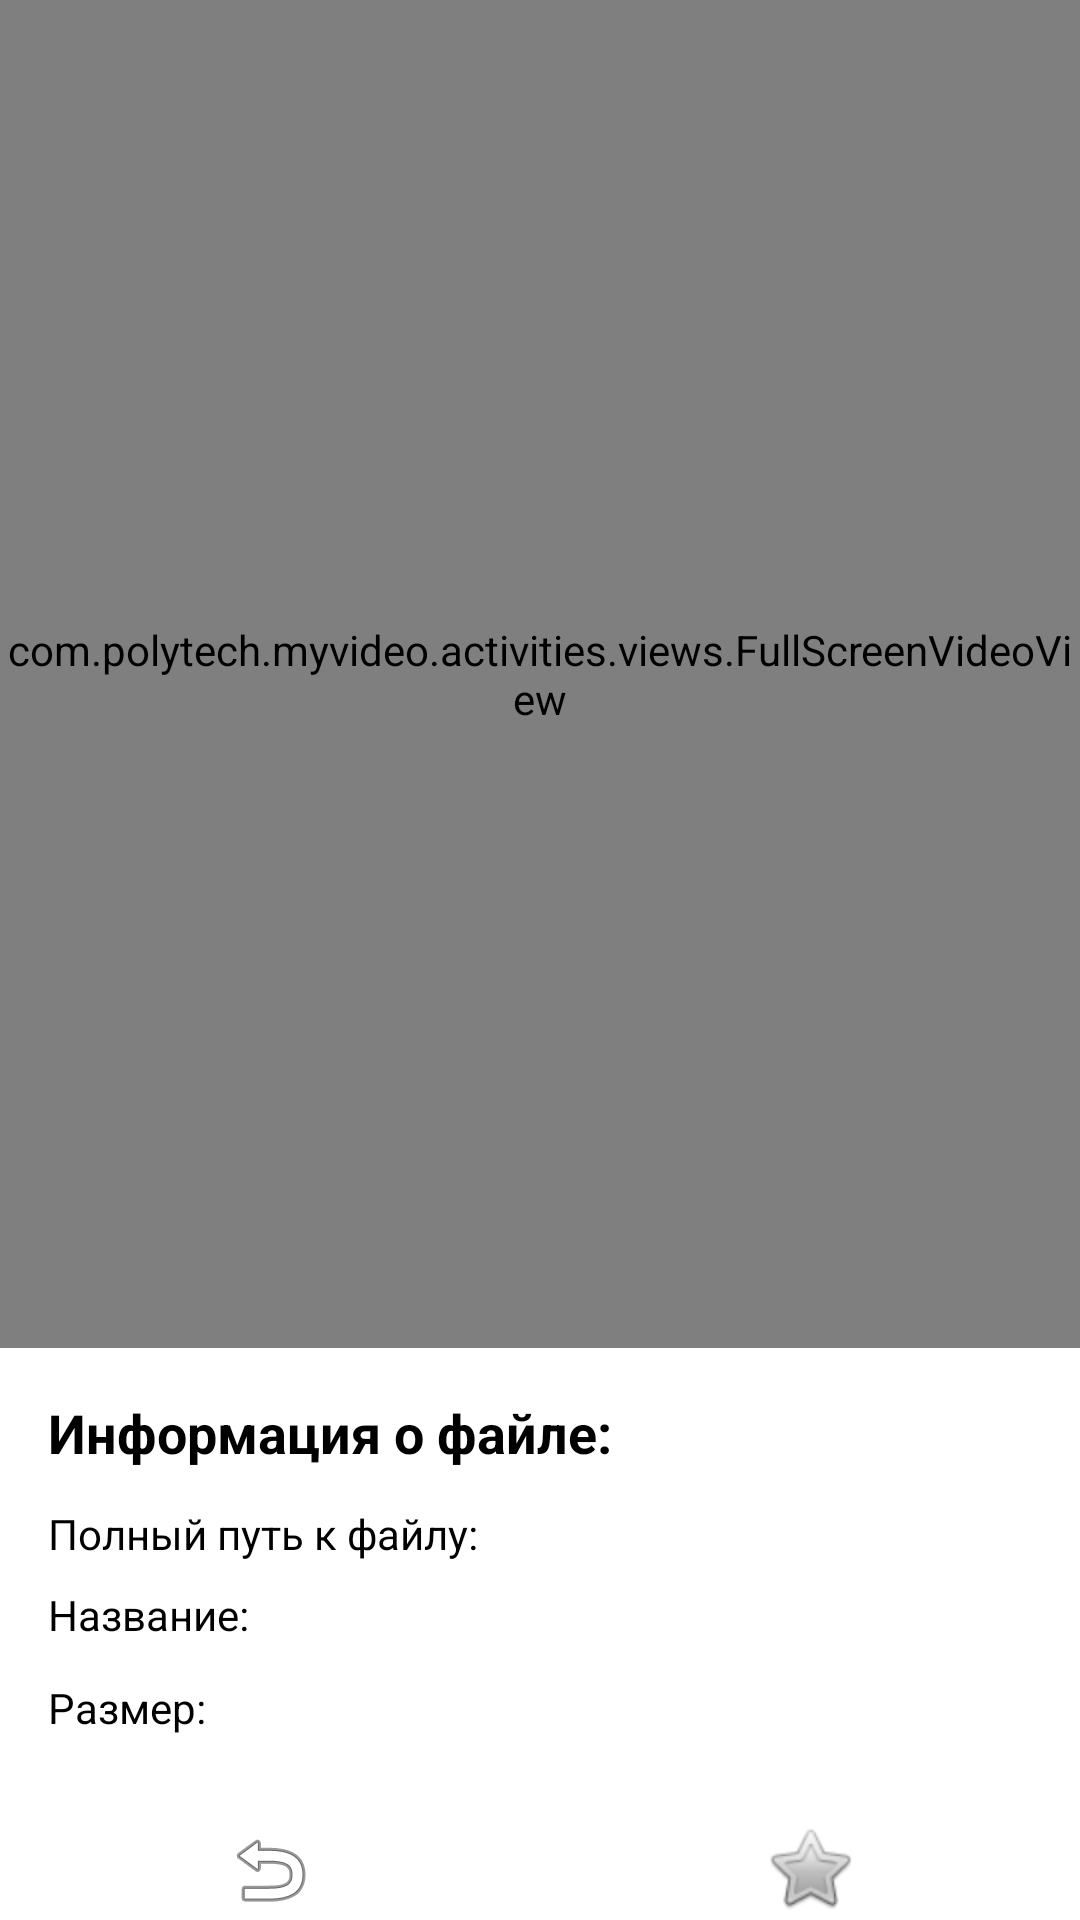

Screen size 1080 x 1920. Icon name, then its box in pixels as (x1, y1, x2, y2):
revert: (237, 1839, 306, 1902)
star off: (771, 1830, 851, 1908)
